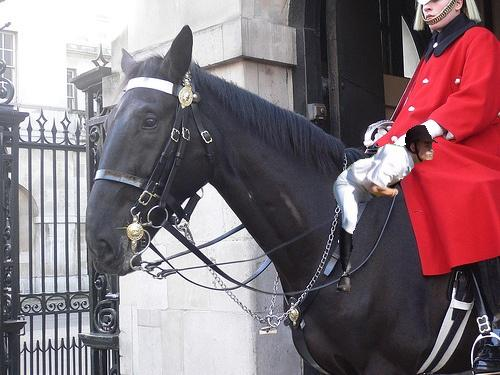tampered: (334, 126, 438, 292)
